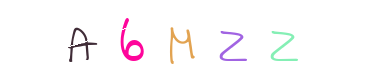6: (90, 0, 170, 80)
A: (40, 0, 120, 80)
M: (140, 0, 220, 80)
Z: (153, 0, 233, 80), (185, 0, 265, 80)
